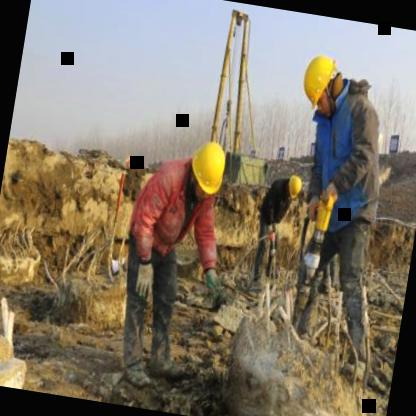helmet: (180, 132, 232, 212), (293, 44, 347, 116), (280, 168, 305, 203)
